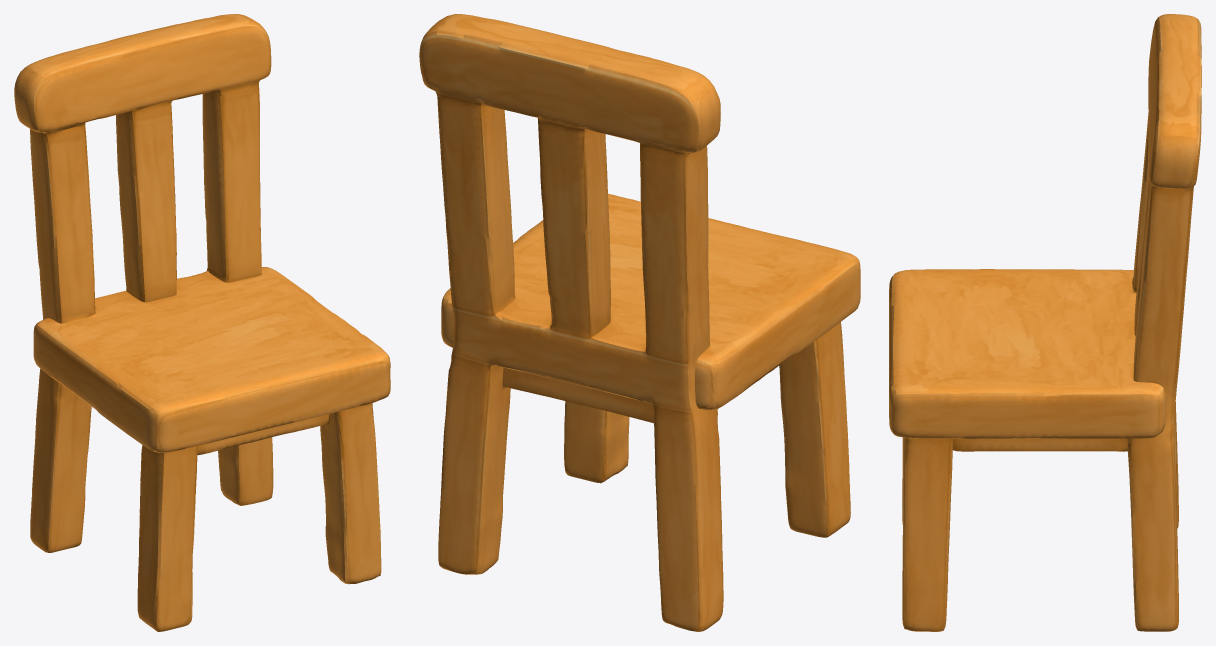
Rendered from Meshy_AI_Wooden_Chair_Views_1122061335_texture.glb.
3 renders of one model, left to right at view 1: azimuth 30°, elevation 25°; view 2: azimuth 150°, elevation 25°; view 3: azimuth 270°, elevation 25°, orthographic. The views are drawn at different scales.
Parts seen in each view (by area): view 1: Mesh0; view 2: Mesh0; view 3: Mesh0.
Boxes of the visible parts, left/top/right/bottom form: Mesh0: left=14, top=14, right=390, bottom=631; Mesh0: left=419, top=14, right=860, bottom=631; Mesh0: left=889, top=14, right=1201, bottom=631.
Size of the model in its own units: 1.02 by 1.9 by 1.06.
Materials: 1 (1 with a texture image).
